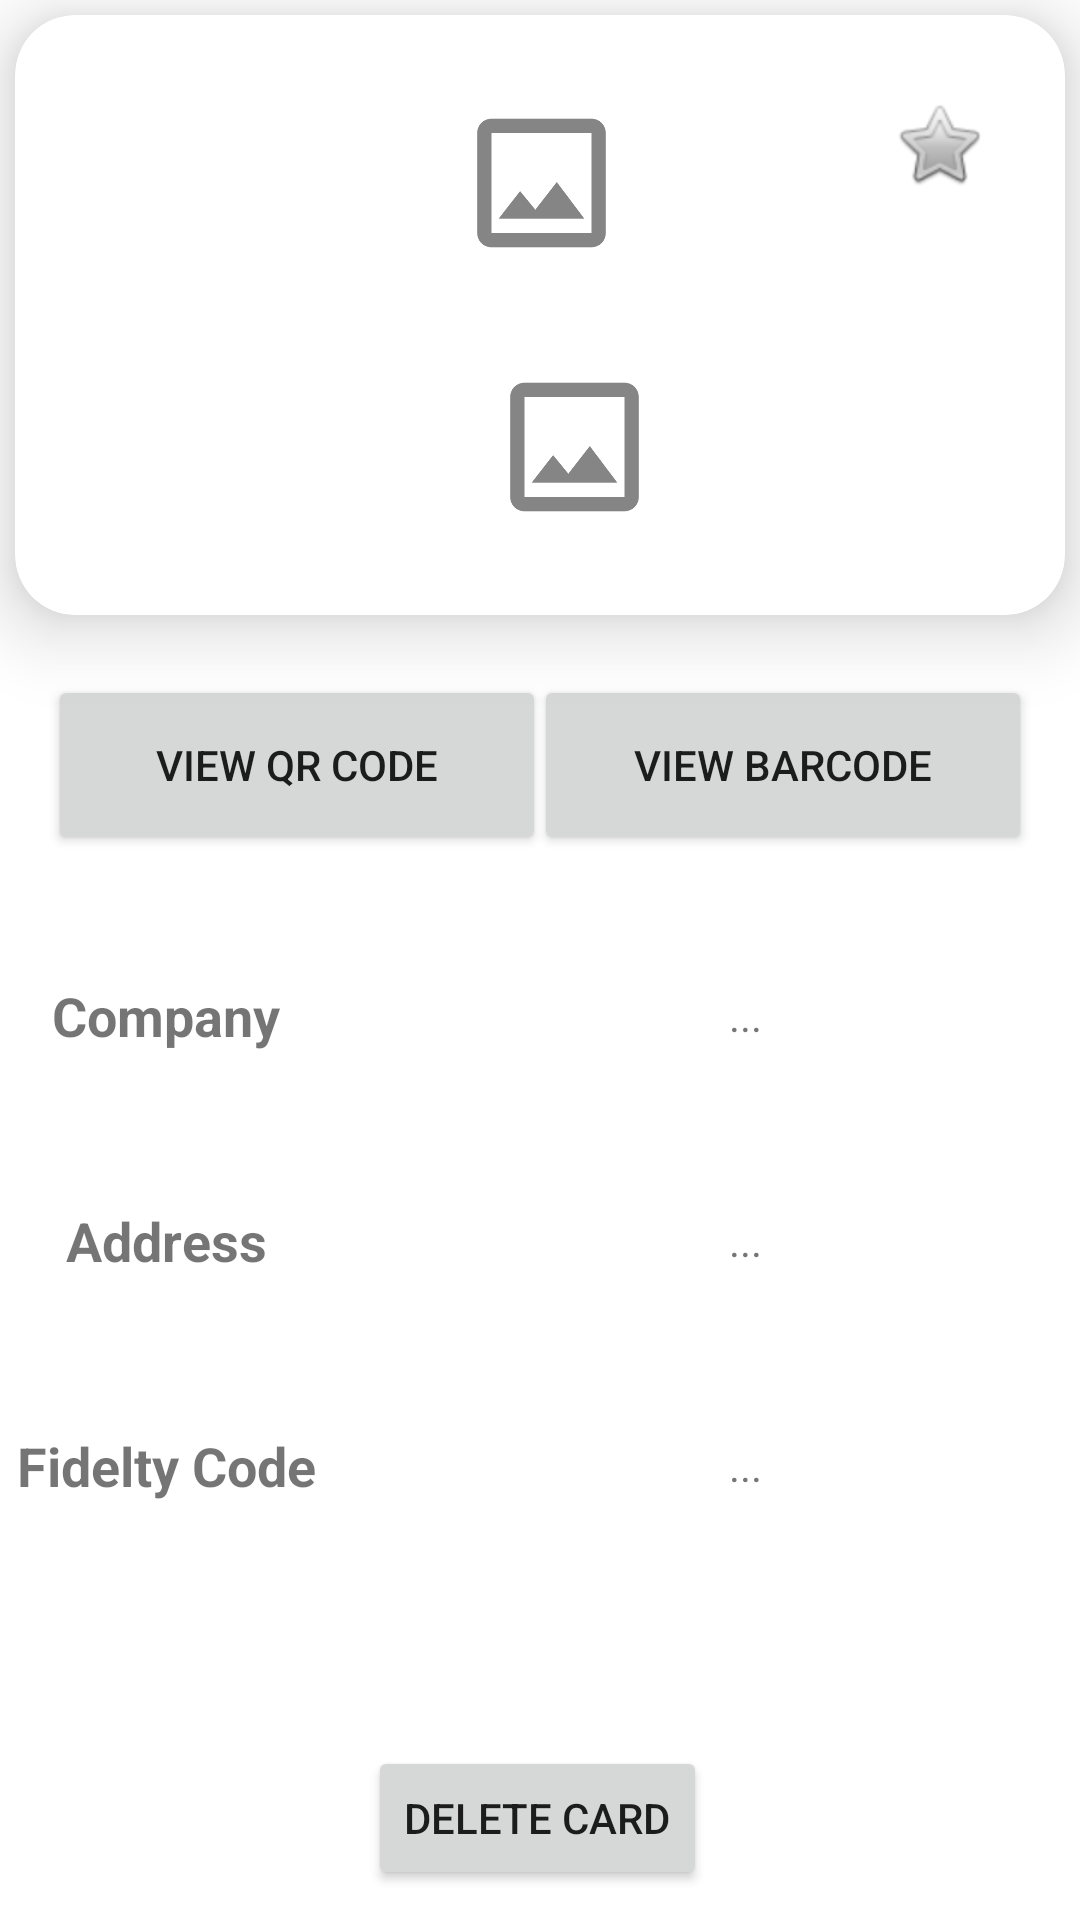

Icon click points for this 1080×1920 phone screenshot, format (x,y):
star: (940,145)
